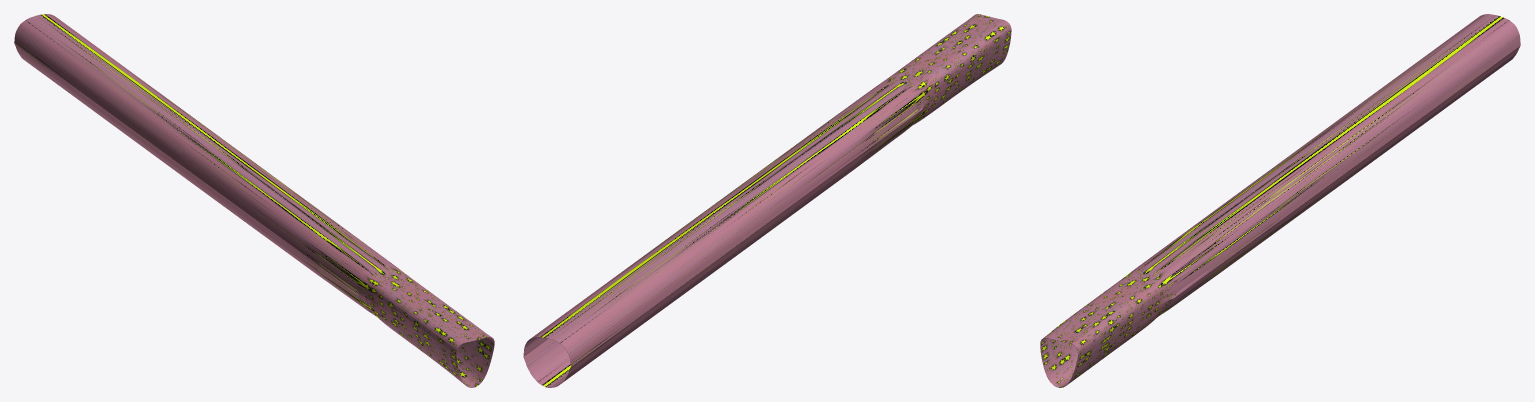
File: sleeveStars.glb
The picture shows the model from 3 angles, left to right: view 1: azimuth 30°, elevation 25°; view 2: azimuth 150°, elevation 25°; view 3: azimuth 330°, elevation 25°; orthographic projection.
Visible parts, largest first — view 1: Sleeve; view 2: Sleeve; view 3: Sleeve.
Part boxes in pixels (left/top/right/bottom): Sleeve: left=14, top=14, right=494, bottom=387; Sleeve: left=523, top=14, right=1011, bottom=387; Sleeve: left=1040, top=14, right=1520, bottom=387.
Size of the model in its own units: 2.37 by 2.52 by 38.4.
1 material, 1 textured.
